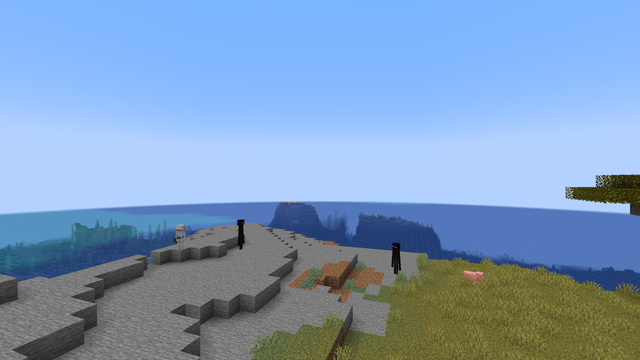cochons: (463, 269, 477, 285)
endermens: (236, 218, 245, 250), (392, 241, 399, 275)
squelettes: (174, 224, 186, 251)
